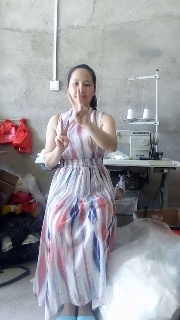hand: (67, 86, 89, 126), (55, 117, 69, 150)
